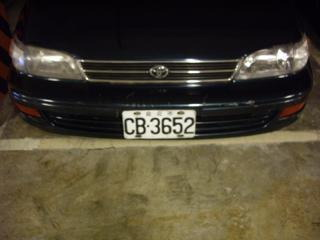plate: (119, 108, 198, 141)
